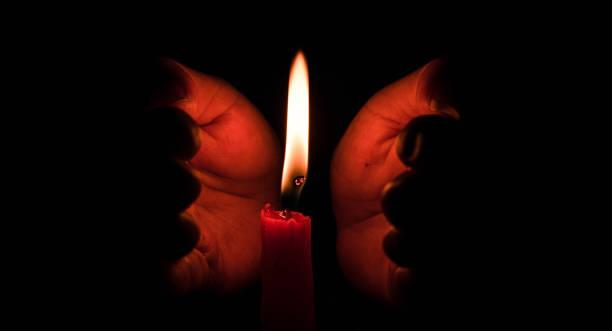Fire: (275, 45, 318, 197)
